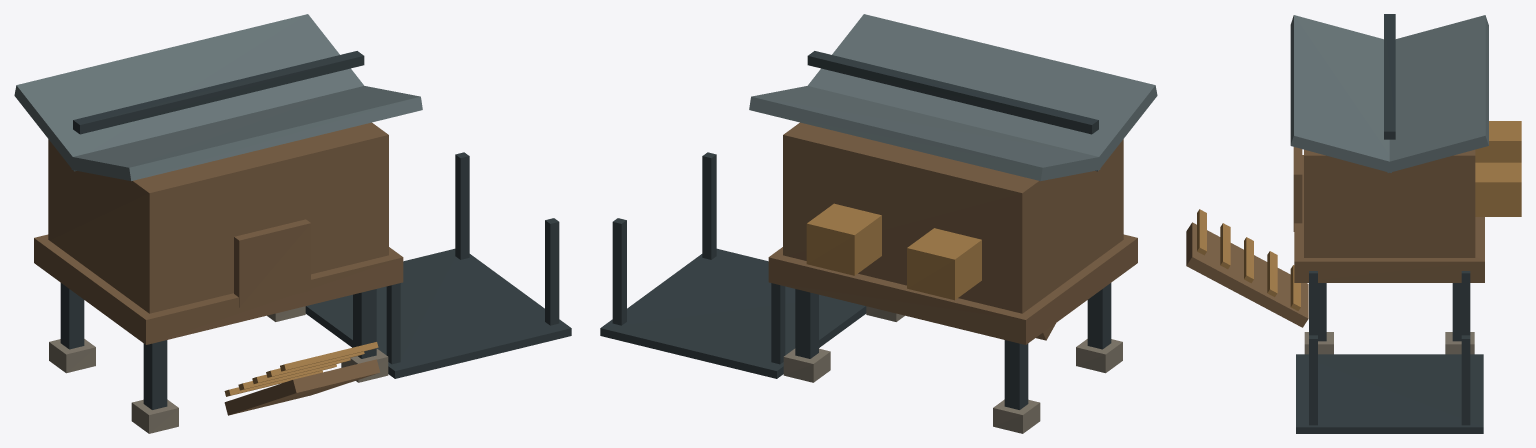
Rendered from chicken-coop.source.glb.
3 views of the same model, side by side, from view 1: azimuth 30°, elevation 25°; view 2: azimuth 150°, elevation 25°; view 3: azimuth 270°, elevation 25° (orthographic). The views are drawn at different scales.
Visible parts, largest first — view 1: chicken-coop-elevated-coop-box-mesh, chicken-coop-shallow-galvanized-roof-mesh (×2), chicken-coop-open-mesh-run-volume-mesh, chicken-coop-raised-coop-platform-mesh, chicken-coop-small-hinged-access-door-mesh, chicken-coop-roof-ridge-mesh, chicken-coop-slender-elevated-post-mesh (×3), chicken-coop-run-frame-post-mesh (×3), chicken-coop-stone-post-foot-mesh (×3), chicken-coop-narrow-slatted-access-ramp-mesh, chicken-coop-ramp-cross-slat-mesh; view 2: chicken-coop-elevated-coop-box-mesh, chicken-coop-shallow-galvanized-roof-mesh (×2), chicken-coop-open-mesh-run-volume-mesh, chicken-coop-raised-coop-platform-mesh, chicken-coop-external-nesting-box-cue-mesh (×2), chicken-coop-roof-ridge-mesh, chicken-coop-slender-elevated-post-mesh (×3), chicken-coop-run-frame-post-mesh (×3), chicken-coop-stone-post-foot-mesh (×3); view 3: chicken-coop-shallow-galvanized-roof-mesh (×2), chicken-coop-elevated-coop-box-mesh, chicken-coop-open-mesh-run-volume-mesh, chicken-coop-raised-coop-platform-mesh, chicken-coop-narrow-slatted-access-ramp-mesh, chicken-coop-external-nesting-box-cue-mesh (×2), chicken-coop-run-frame-post-mesh (×4), chicken-coop-ramp-cross-slat-mesh (×5), chicken-coop-roof-ridge-mesh, chicken-coop-slender-elevated-post-mesh (×2), chicken-coop-stone-post-foot-mesh (×2), chicken-coop-small-hinged-access-door-mesh.
Boxes of the visible parts, x1,y1,x2,y2 form: chicken-coop-elevated-coop-box-mesh: (48, 122, 388, 313); chicken-coop-shallow-galvanized-roof-mesh (×2): (14, 14, 422, 181); chicken-coop-open-mesh-run-volume-mesh: (305, 248, 571, 378); chicken-coop-raised-coop-platform-mesh: (34, 234, 403, 344); chicken-coop-small-hinged-access-door-mesh: (234, 219, 310, 307); chicken-coop-roof-ridge-mesh: (73, 51, 364, 134); chicken-coop-slender-elevated-post-mesh (×3): (60, 283, 376, 409); chicken-coop-run-frame-post-mesh (×3): (386, 152, 559, 364); chicken-coop-stone-post-foot-mesh (×3): (49, 339, 388, 433); chicken-coop-narrow-slatted-access-ramp-mesh: (224, 359, 380, 415); chicken-coop-ramp-cross-slat-mesh: (280, 342, 378, 371); chicken-coop-elevated-coop-box-mesh: (783, 122, 1123, 313); chicken-coop-shallow-galvanized-roof-mesh (×2): (749, 14, 1157, 181); chicken-coop-open-mesh-run-volume-mesh: (600, 248, 866, 378); chicken-coop-raised-coop-platform-mesh: (768, 234, 1137, 344); chicken-coop-external-nesting-box-cue-mesh (×2): (806, 203, 981, 300); chicken-coop-roof-ridge-mesh: (807, 51, 1098, 134); chicken-coop-slender-elevated-post-mesh (×3): (795, 283, 1111, 409); chicken-coop-run-frame-post-mesh (×3): (612, 152, 785, 364); chicken-coop-stone-post-foot-mesh (×3): (783, 339, 1122, 433); chicken-coop-shallow-galvanized-roof-mesh (×2): (1290, 15, 1488, 172); chicken-coop-elevated-coop-box-mesh: (1304, 149, 1475, 257); chicken-coop-open-mesh-run-volume-mesh: (1296, 354, 1483, 433); chicken-coop-raised-coop-platform-mesh: (1294, 155, 1484, 282); chicken-coop-narrow-slatted-access-ramp-mesh: (1186, 222, 1308, 327); chicken-coop-external-nesting-box-cue-mesh (×2): (1475, 121, 1521, 216); chicken-coop-run-frame-post-mesh (×4): (1309, 271, 1470, 425); chicken-coop-ramp-cross-slat-mesh (×5): (1197, 209, 1300, 310); chicken-coop-roof-ridge-mesh: (1384, 14, 1395, 139); chicken-coop-slender-elevated-post-mesh (×2): (1318, 283, 1461, 341); chicken-coop-stone-post-foot-mesh (×2): (1304, 332, 1474, 354); chicken-coop-small-hinged-access-door-mesh: (1293, 147, 1302, 231).
Size of the model in its own units: 2.96 by 1.79 by 2.29.
